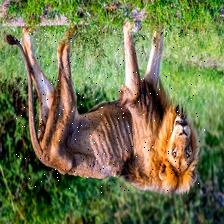Lion: (16, 30, 205, 193)
